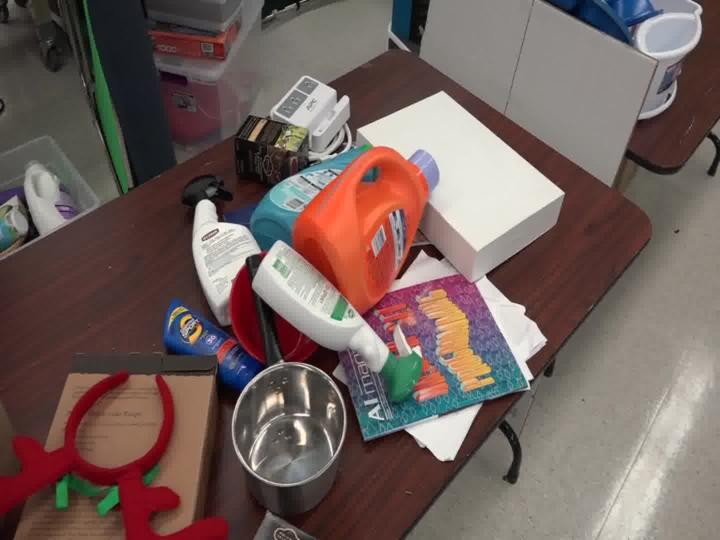downy: (232, 137, 370, 266)
